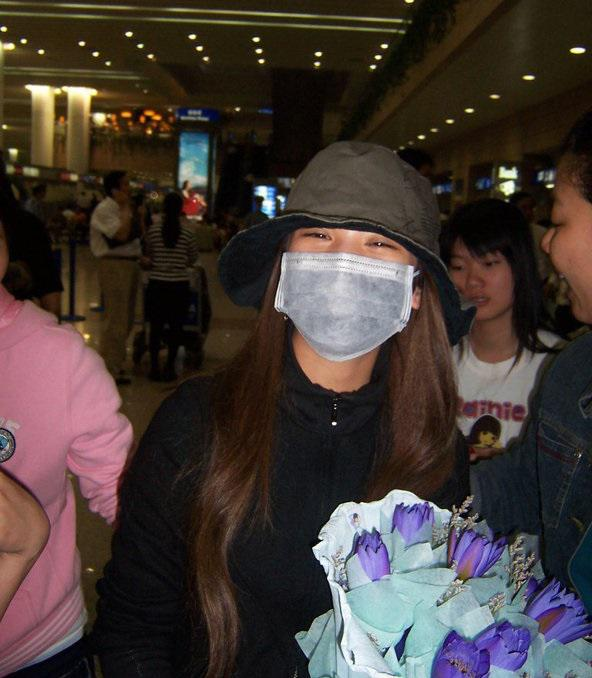NONE: (543, 193, 592, 309), (453, 241, 524, 318), (108, 173, 133, 202)
OK: (286, 217, 416, 354)
